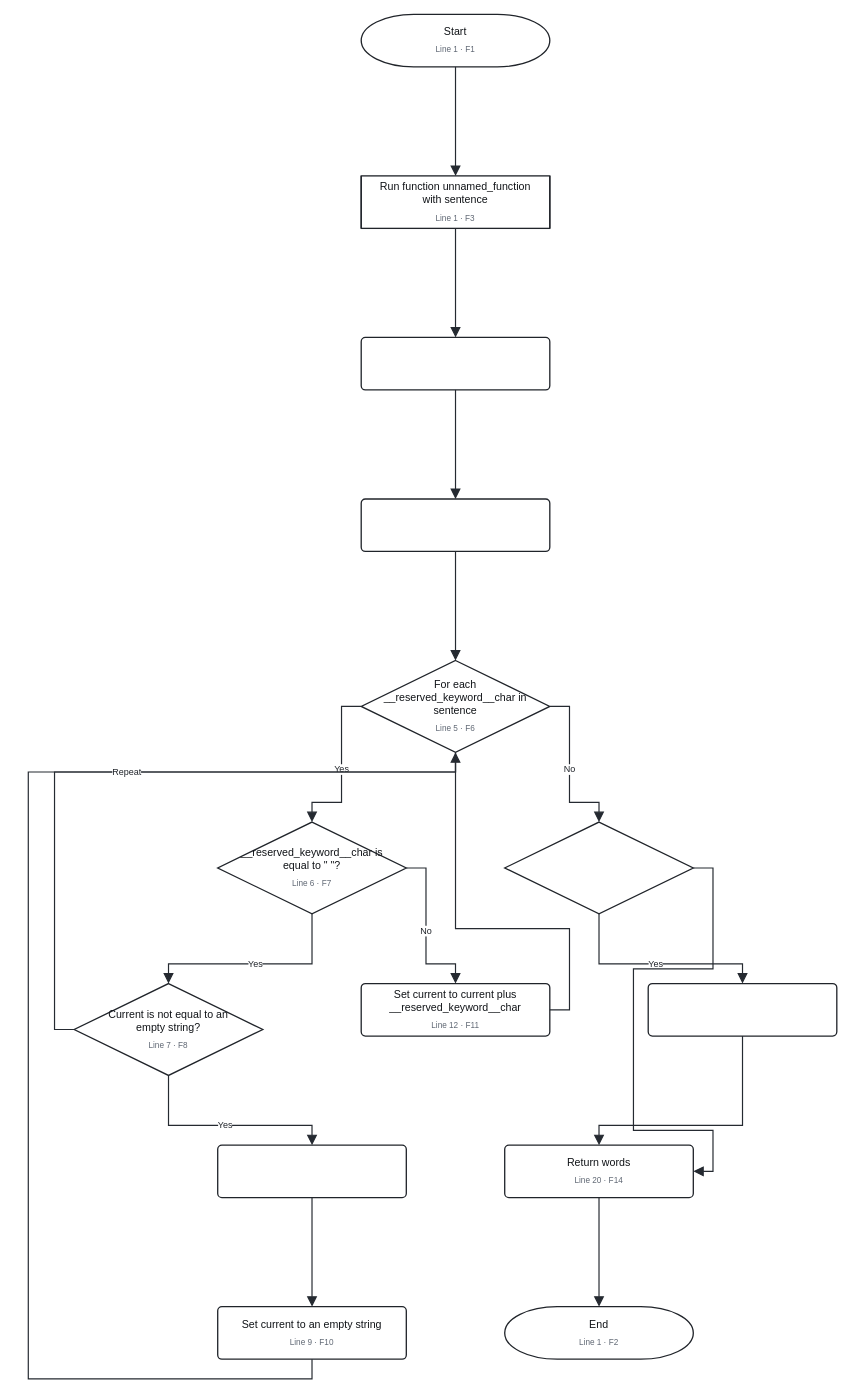
Image size: 852x1395. Some labels were removed from this diagram. The shapes that lost their labels are listed below. From the top down, each one's box as (x1, y1, x2, y2) in pixels, then its label:
(360, 336, 550, 390): Set words to an empty list Line 2 · F4
(360, 498, 550, 552): Set current to an empty string Line 3 · F5
(504, 821, 694, 914): Current is not equal to an empty string? Line 16 · F12
(647, 983, 837, 1036): Append current to words Line 17 · F13
(217, 1144, 407, 1198): Append current to words Line 8 · F9
